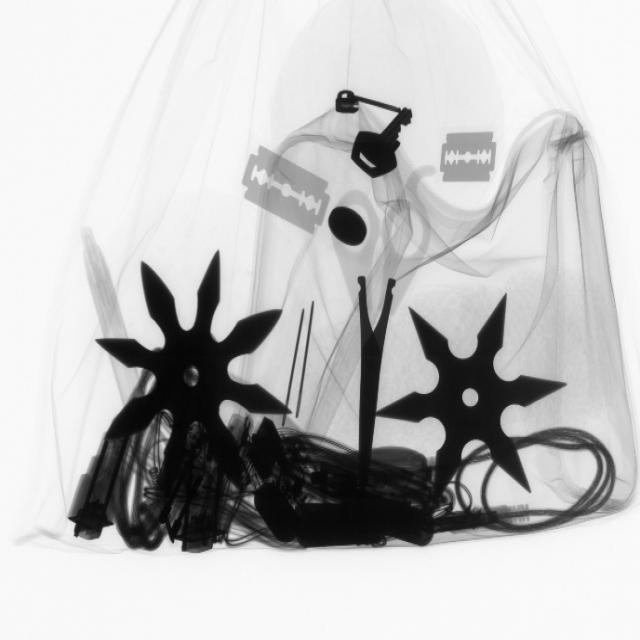BLADE: (234, 138, 335, 238), (435, 121, 503, 194)
SHURIKEN: (97, 251, 293, 495), (383, 291, 560, 503)
